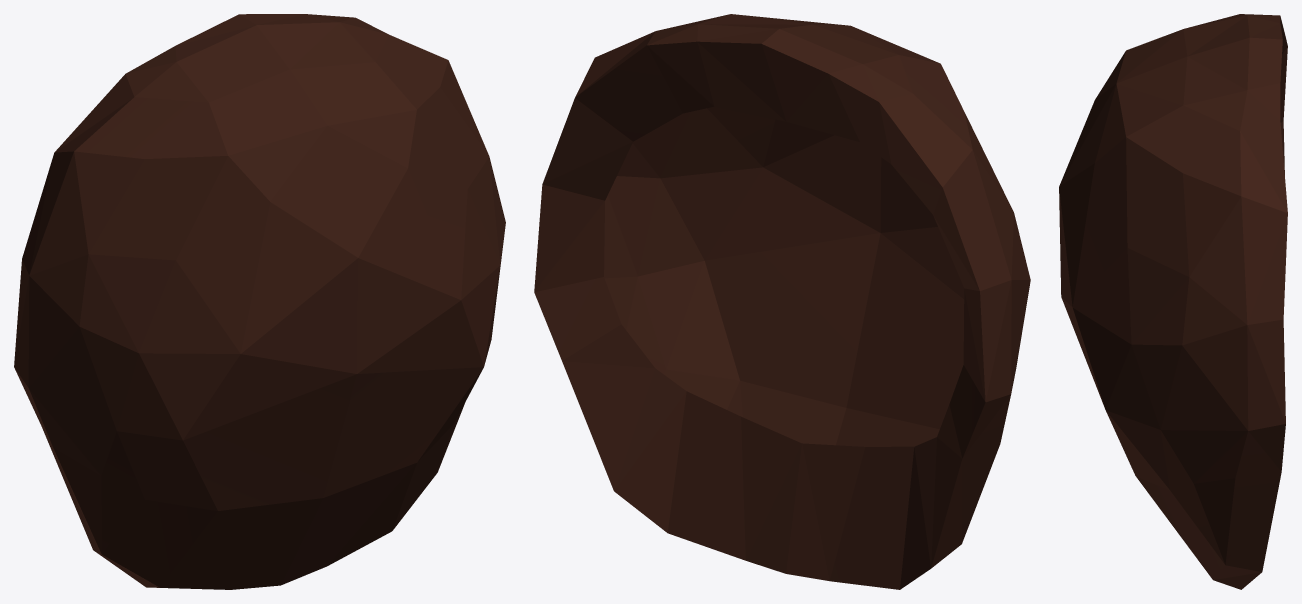
File: HunterBeret.glb
The picture shows the model from 3 angles, left to right: view 1: azimuth 30°, elevation 25°; view 2: azimuth 150°, elevation 25°; view 3: azimuth 270°, elevation 25°; orthographic projection. The views are drawn at different scales.
Visible parts, largest first — view 1: HunterBeret; view 2: HunterBeret; view 3: HunterBeret.
Boxes of the visible parts, x1,y1,x2,y2 form: HunterBeret: (14, 14, 505, 589); HunterBeret: (534, 14, 1030, 589); HunterBeret: (1059, 14, 1287, 589).
Bounding box in the file's own units: 0.1949 × 0.2216 × 0.0897.
1 material, 1 textured.
